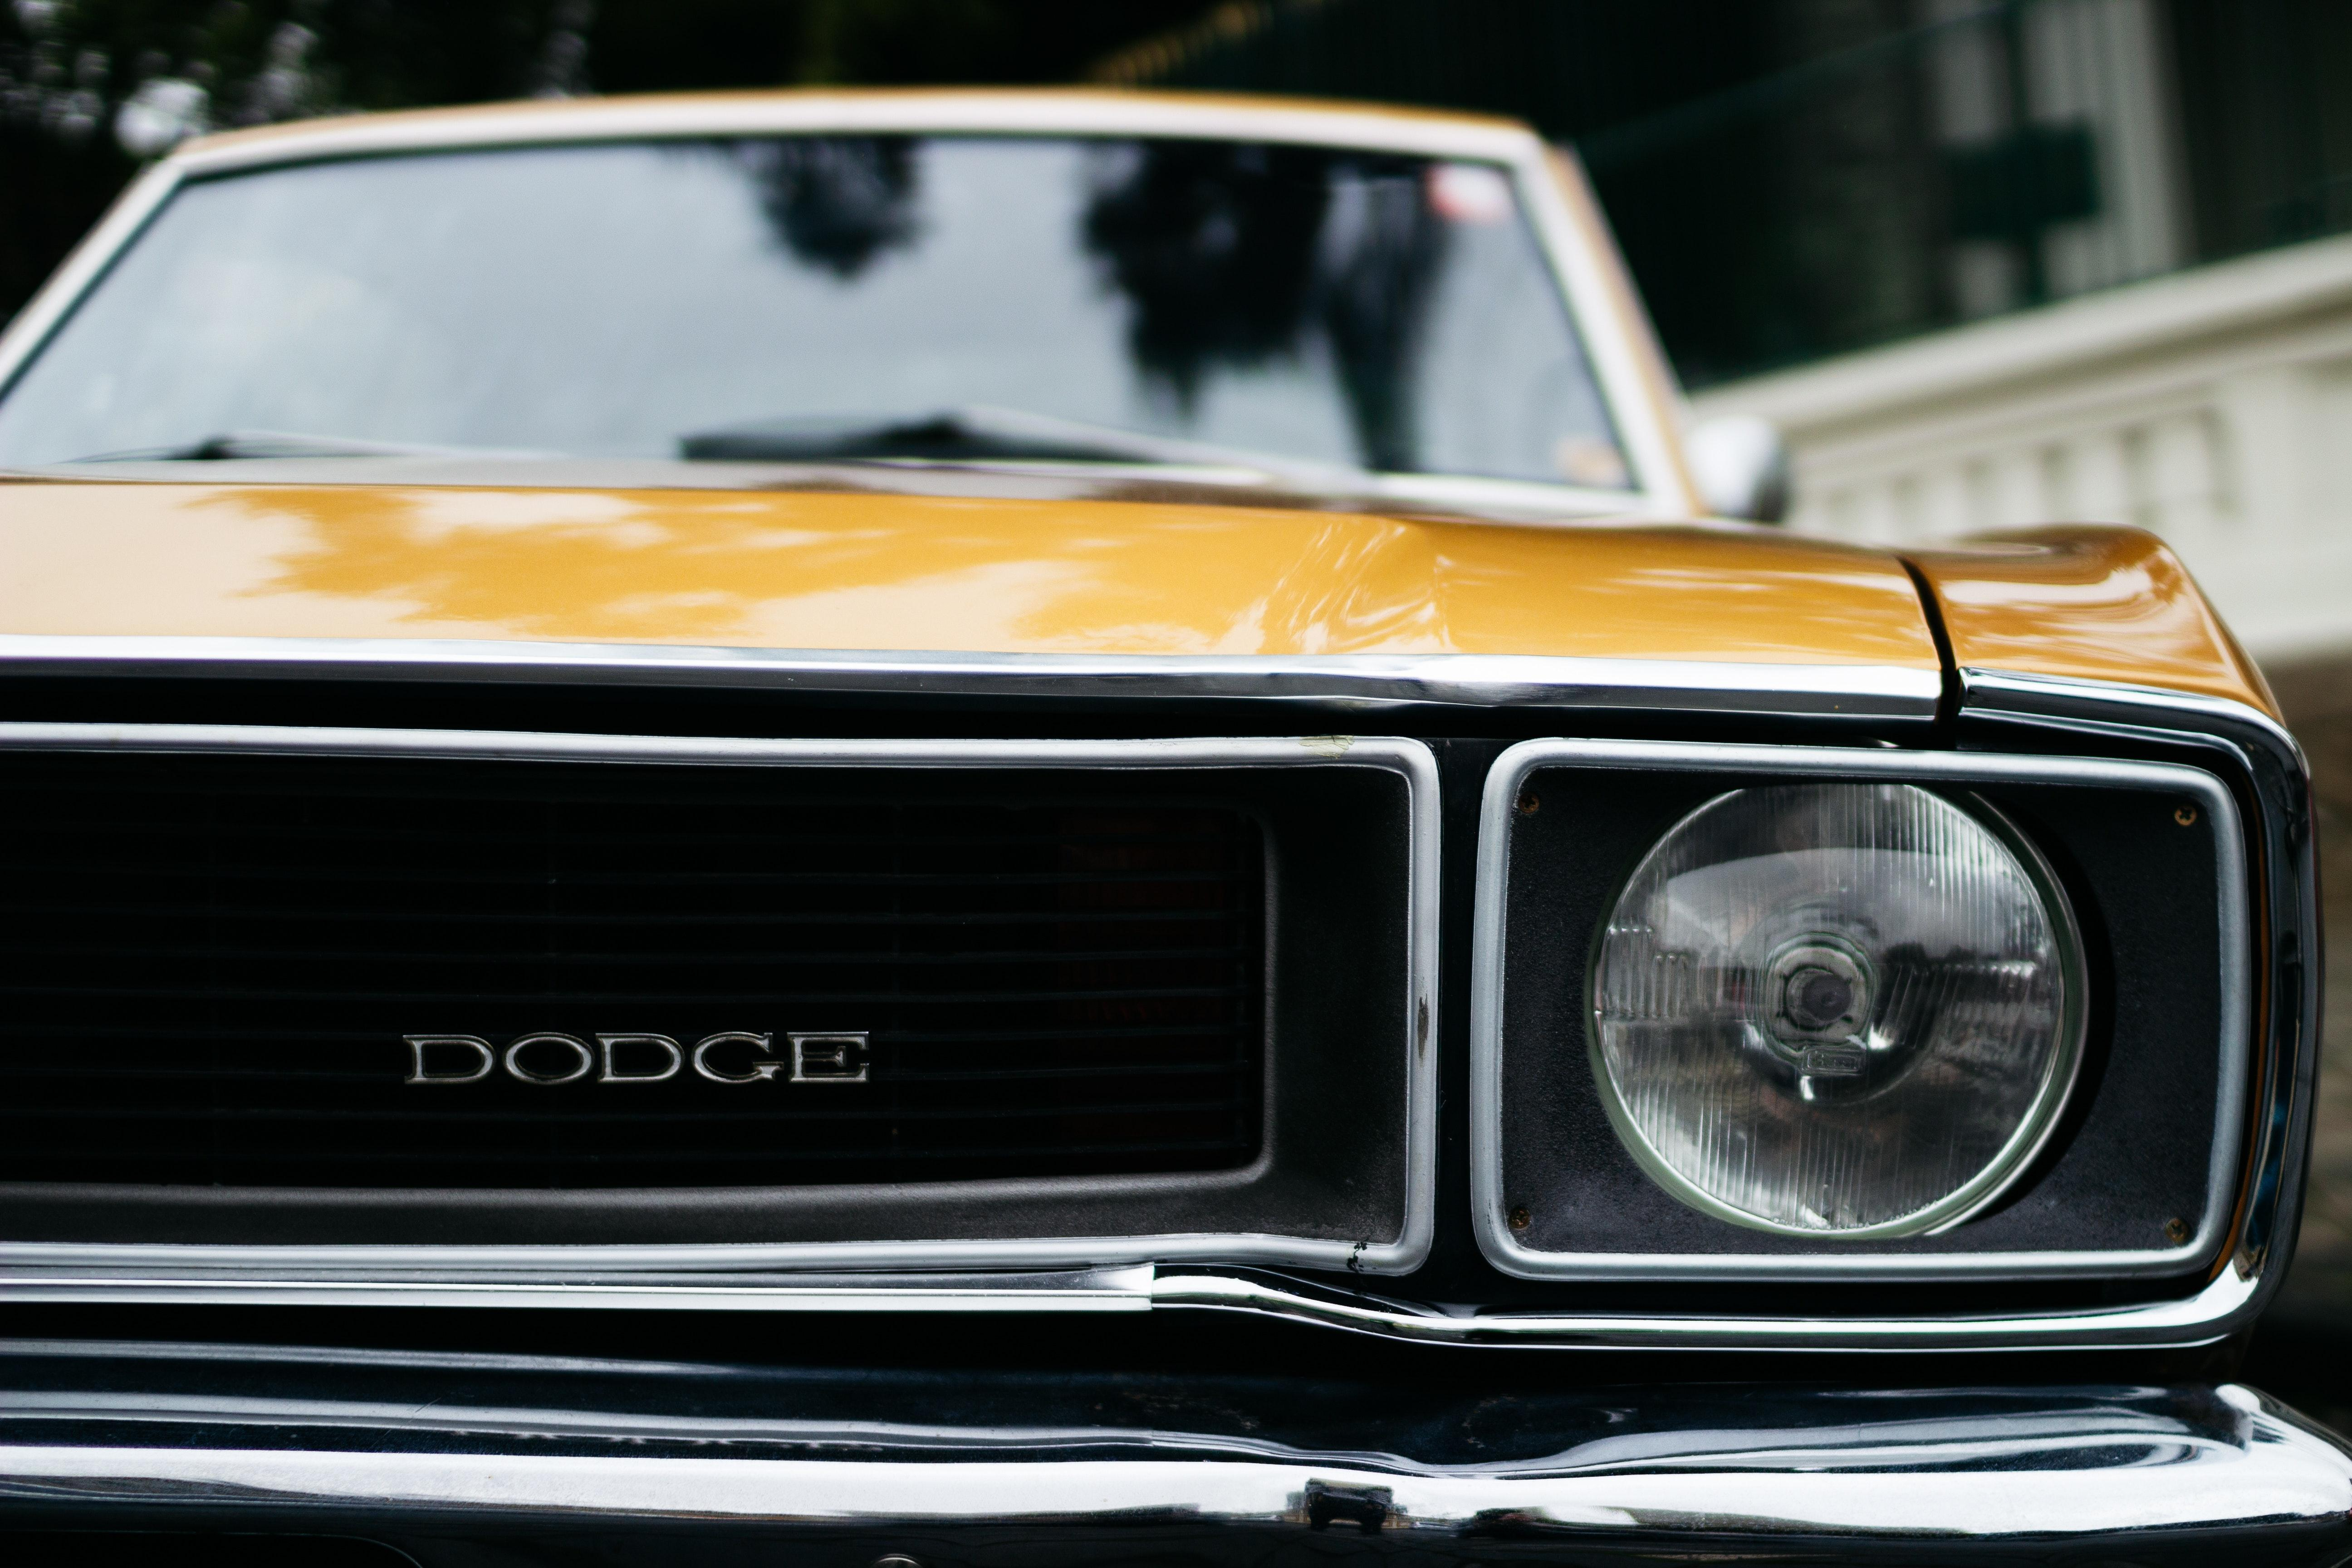dodge: (350, 985, 914, 1141)
